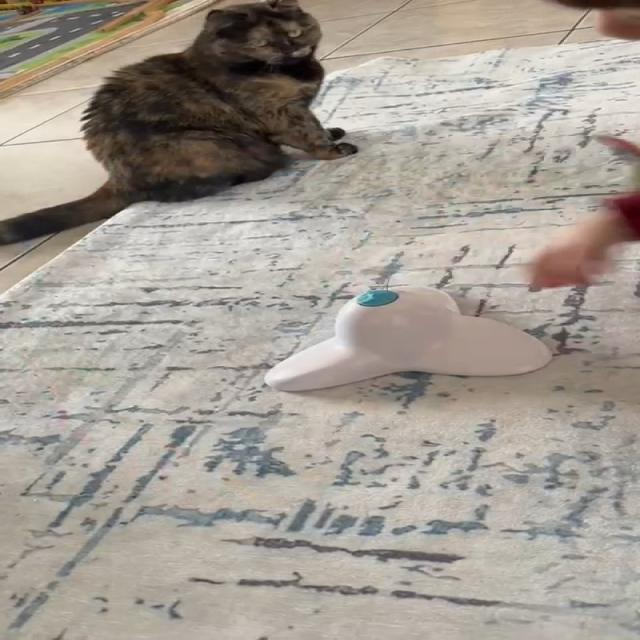authorized: (0, 0, 357, 246)
